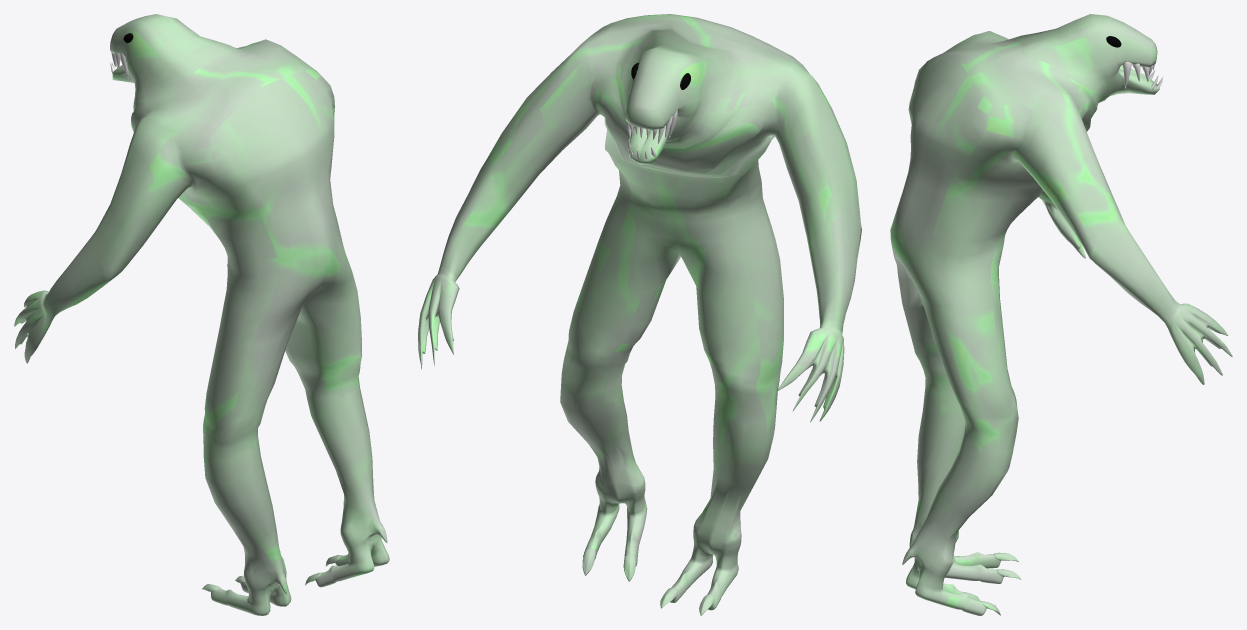
Rendered from Berserkeraranar.0057.obj.
The picture shows the model from 3 angles, left to right: view 1: azimuth 30°, elevation 25°; view 2: azimuth 150°, elevation 25°; view 3: azimuth 270°, elevation 25°; orthographic projection. The views are drawn at different scales.
Parts seen in each view (by area): view 1: polySurface27; view 2: polySurface27; view 3: polySurface27.
Boxes of the visible parts, x1,y1,x2,y2 form: polySurface27: [14, 14, 389, 615]; polySurface27: [418, 14, 861, 615]; polySurface27: [890, 14, 1232, 615].
Size of the model in its own units: 14.05 by 22.84 by 13.01.
Materials: 1 (1 with a texture image).
